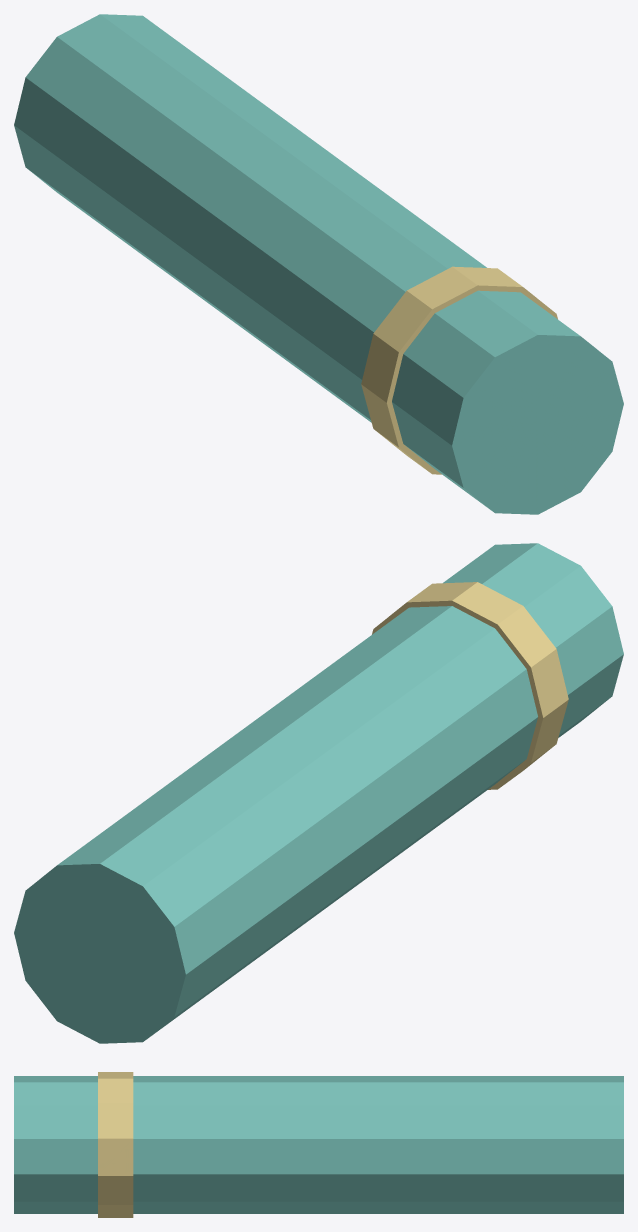
Rendered from yogaMat.glb.
3 views of the same model, one above another, from view 1: azimuth 30°, elevation 25°; view 2: azimuth 150°, elevation 25°; view 3: azimuth 270°, elevation 25° (orthographic). The views are drawn at different scales.
Visible parts, largest first — view 1: yogaMat; view 2: yogaMat; view 3: yogaMat.
Part boxes in pixels (bbox=[...]): yogaMat: bbox=[14, 14, 623, 514]; yogaMat: bbox=[14, 543, 623, 1043]; yogaMat: bbox=[14, 1072, 623, 1217].
Bounding box in the file's own units: 0.144 × 0.144 × 0.6.
